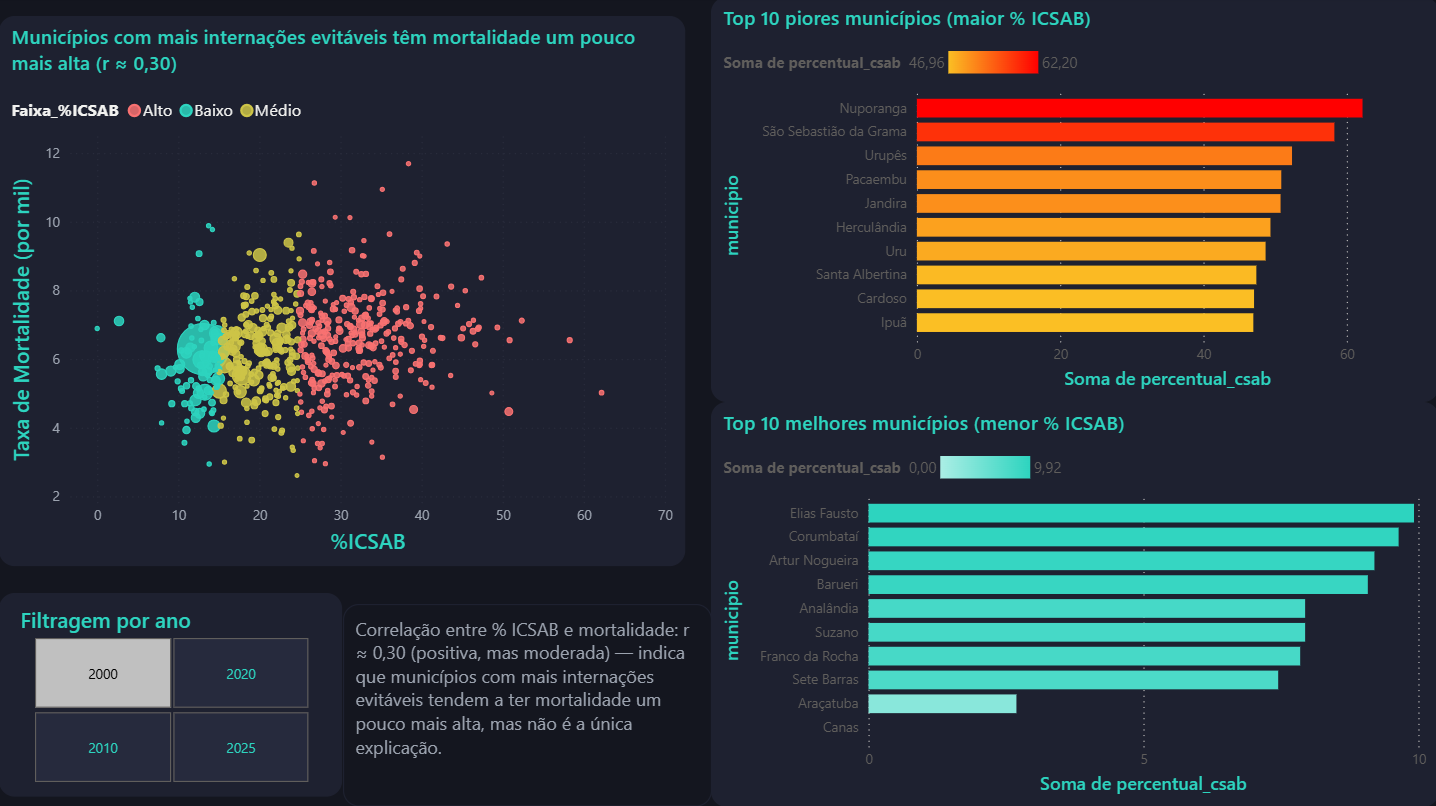

This screenshot's page, from the dashboard's own definition file:
{"tool":"powerbi","page":{"name":"Correlação","canvas":[1280,720],"ordinal":2},"visuals":[{"type":"slicer","title":"Filtragem por ano","fields":{"Values":["dataset_final_projeto_saude_sp_BR_1.ano"]},"box":[0,530.1,305.4,180.9],"z":0},{"type":"scatterChart","title":"Municípios com mais internações evitáveis têm mortalidade um pouco mais alta (r ≈ 0,30)","fields":{"X":["Sum(dataset_final_projeto_saude_sp_BR_1.percentual_csab)"],"Y":["Sum(dataset_final_projeto_saude_sp_BR_1.taxa_mortalidade_por_mil)"],"Size":["Sum(dataset_final_projeto_saude_sp_BR_1.populacao)"],"Category":["dataset_final_projeto_saude_sp_BR_1.municipio"],"Series":["dataset_final_projeto_saude_sp_BR_1.Faixa_%ICSAB"]},"box":[0,16.5,609.8,489.2],"z":1000},{"type":"textbox","box":[305.4,539.8,327.8,179.9],"z":2000},{"type":"clusteredBarChart","title":"Top 10 piores municípios (maior % ICSAB)","fields":{"Category":["dataset_final_projeto_saude_sp_BR_1.municipio"],"Y":["Sum(dataset_final_projeto_saude_sp_BR_1.percentual_csab)"]},"box":[633.2,0,646.8,359.9],"z":3000},{"type":"clusteredBarChart","title":" Top 10 melhores municípios (menor % ICSAB)","fields":{"Category":["dataset_final_projeto_saude_sp_BR_1.municipio"],"Y":["Sum(dataset_final_projeto_saude_sp_BR_1.percentual_csab)"]},"box":[633.2,359.9,646.8,359.9],"z":4000}]}

Visuals, with their boxes in screenshot pixels (x1, y1, x2, y2), scaled from the page's 1280x720 canvas onto the 1436x806 screenshot:
"Filtragem por ano" slicer: [x1=0, y1=593, x2=343, y2=796]
"Municípios com mais internações evitáveis têm mortalidade um pouco mais alta (r ≈ 0,30)" scatterChart: [x1=0, y1=18, x2=684, y2=566]
textbox: [x1=343, y1=604, x2=710, y2=805]
"Top 10 piores municípios (maior % ICSAB)" clusteredBarChart: [x1=710, y1=0, x2=1435, y2=403]
" Top 10 melhores municípios (menor % ICSAB)" clusteredBarChart: [x1=710, y1=403, x2=1435, y2=805]
